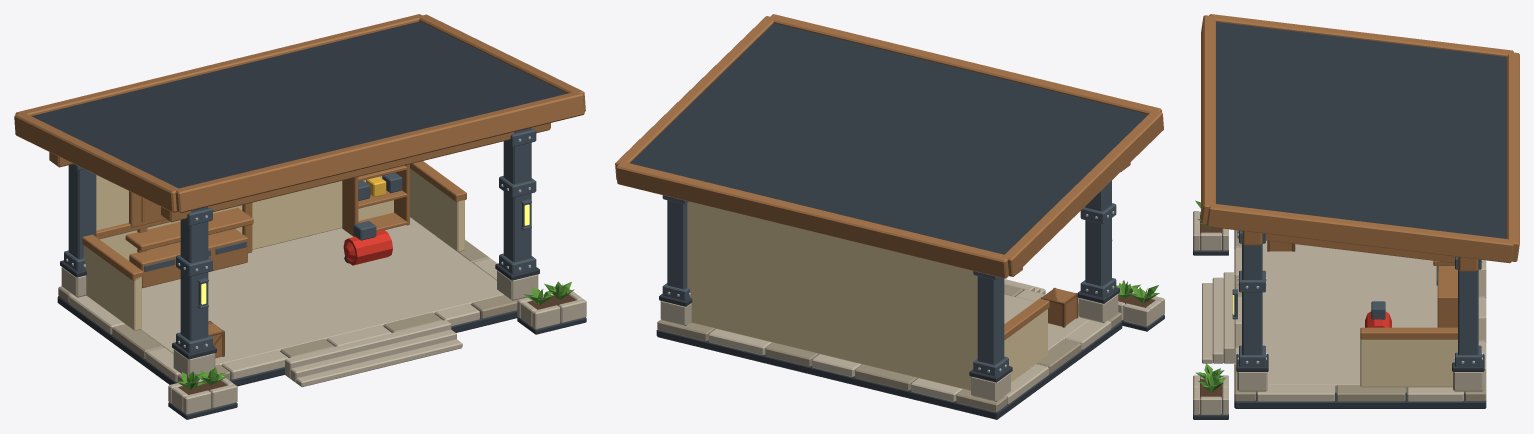
File: Lobby_Workshop.fbx
3 renders of one model, left to right at view 1: azimuth 30°, elevation 25°; view 2: azimuth 150°, elevation 25°; view 3: azimuth 270°, elevation 25°, orthographic. The views are drawn at different scales.
Visible parts, largest first — view 1: Roof, Foundation, Fascia, Walls, Posts, Interior, Steps, Foundation2, Concrete, RoofBeams, WallTrim, PostStone (+7 smaller); view 2: Roof, Walls, Fascia, Posts, Foundation, Foundation2, FoundationBase, PostStone, Concrete, PostCaps, Props, WallTrim; view 3: Roof, Foundation, Fascia, Posts, Walls, Steps, Foundation2, FoundationBase, RoofBeams, Concrete, Interior, WallTrim (+7 smaller).
Boxes of the visible parts, box(x1,y1,x2,y2) form: Roof: box(31, 21, 566, 188); Foundation: box(69, 217, 503, 381); Fascia: box(14, 14, 585, 213); Walls: box(83, 168, 464, 330); Posts: box(64, 128, 536, 353); Interior: box(125, 164, 409, 288); Steps: box(285, 320, 462, 387); Foundation2: box(58, 236, 527, 381); Concrete: box(168, 289, 586, 414); RoofBeams: box(49, 123, 550, 222); WallTrim: box(82, 161, 466, 280); PostStone: box(61, 267, 538, 375); Roof: box(630, 23, 1148, 254); Walls: box(687, 201, 1047, 390); Fascia: box(615, 14, 1163, 278); Posts: box(662, 180, 1116, 376); Foundation: box(708, 289, 1111, 404); Foundation2: box(657, 284, 1121, 412); FoundationBase: box(656, 321, 1122, 419); PostStone: box(660, 294, 1118, 401); Concrete: box(1118, 291, 1164, 326); PostCaps: box(659, 287, 1119, 382); Props: box(1048, 288, 1076, 326); WallTrim: box(1004, 298, 1049, 340); Roof: box(1216, 22, 1506, 238); Foundation: box(1234, 240, 1486, 401); Fascia: box(1201, 14, 1519, 263); Posts: box(1239, 230, 1481, 366); Walls: box(1360, 339, 1457, 387); Steps: box(1202, 272, 1234, 363); Foundation2: box(1234, 230, 1486, 401); FoundationBase: box(1234, 392, 1486, 408); RoofBeams: box(1242, 231, 1478, 271); Concrete: box(1193, 211, 1228, 414); Interior: box(1433, 260, 1457, 327); WallTrim: box(1360, 327, 1457, 339).
Bounding box in the file's own units: 25.6 × 13.26 × 18.17.
